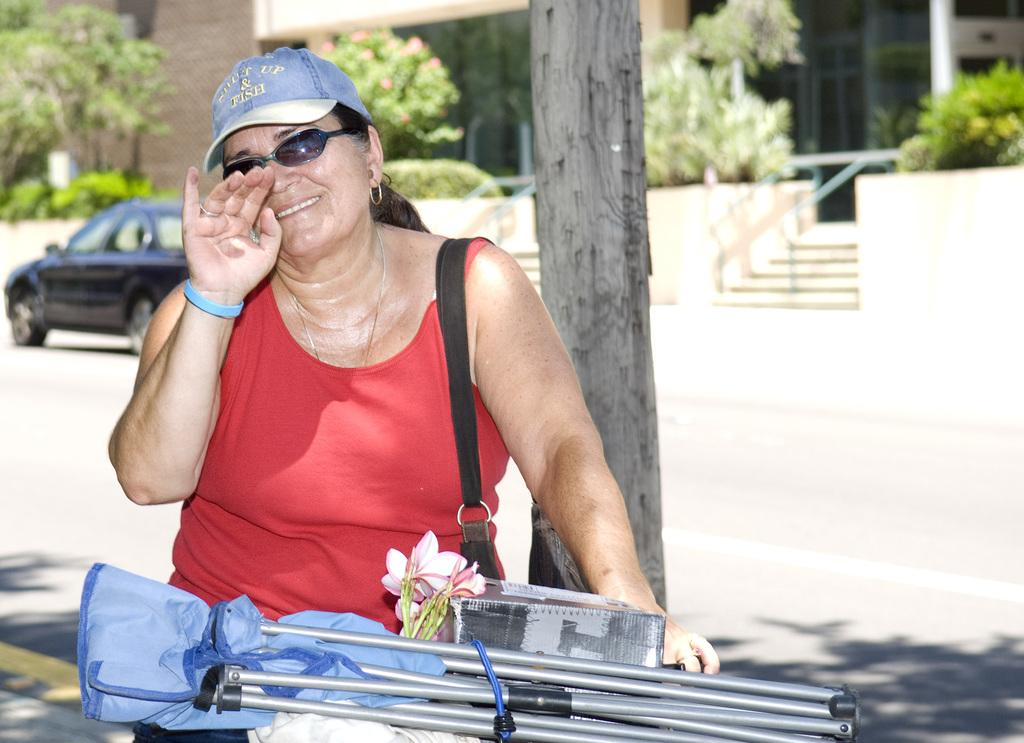Hat: (206, 50, 377, 177)
